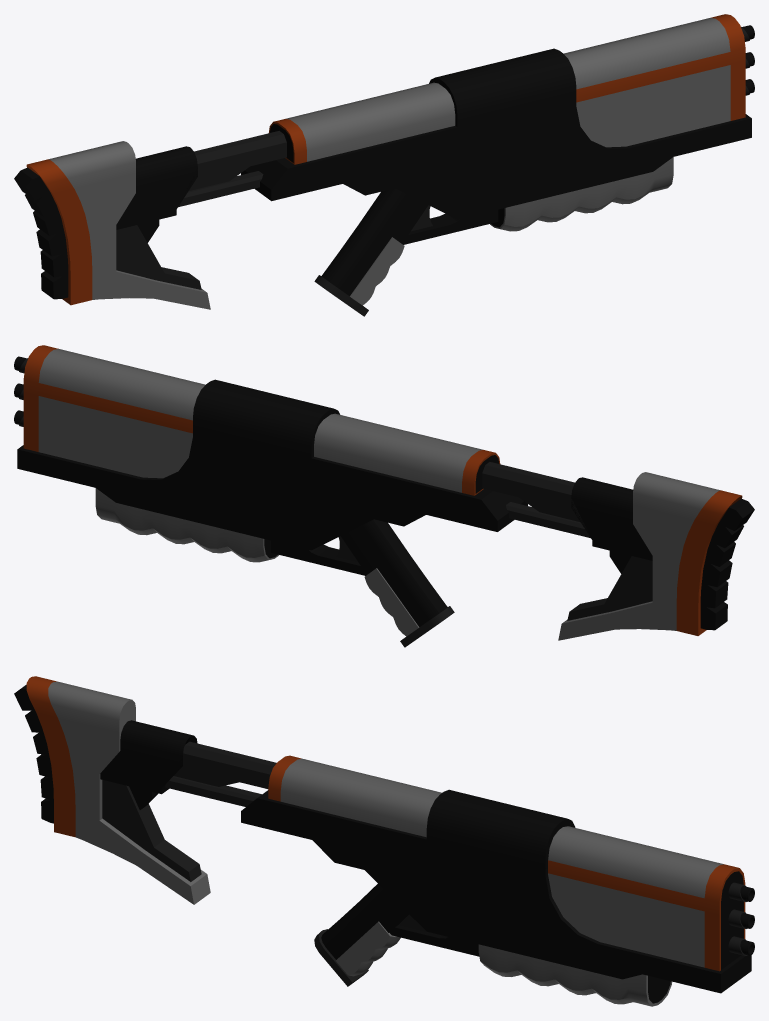
3 renders of one model, top to bottom at view 1: azimuth 30°, elevation 25°; view 2: azimuth 150°, elevation 25°; view 3: azimuth 330°, elevation 25°, orthographic.
Visible parts, largest first — view 1: AR_1_Cube.003; view 2: AR_1_Cube.003; view 3: AR_1_Cube.003.
Boxes of the visible parts, x1,y1,x2,y2 form: AR_1_Cube.003: [14, 14, 754, 316]; AR_1_Cube.003: [14, 345, 754, 647]; AR_1_Cube.003: [14, 676, 754, 1006].
Size of the model in its own units: 1.89 by 0.5528 by 0.1366.
